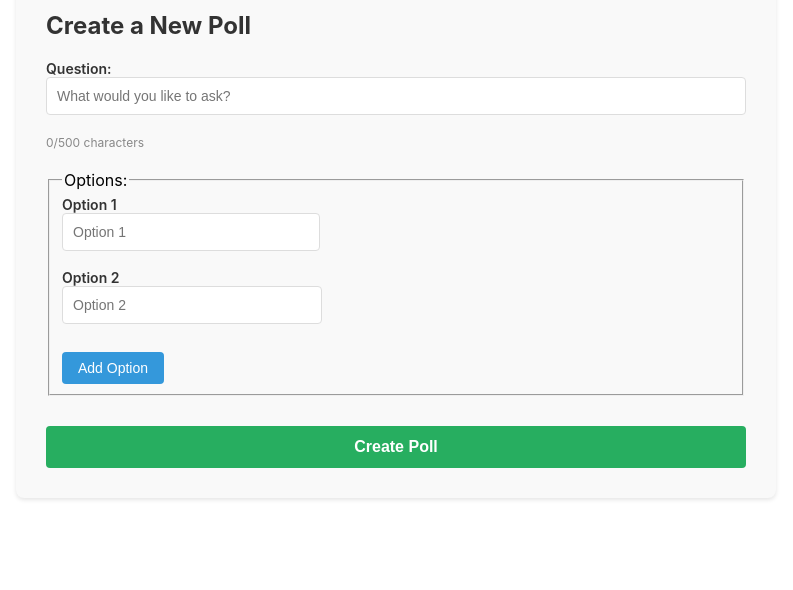
Test: HostDashboard - Edge Cases › T022: adding new option field does not affect existing field keys
Type in first field
Click the field with placeholder "Option 1". click: (191, 232)
box: x1=62 y1=212 x2=320 y2=250
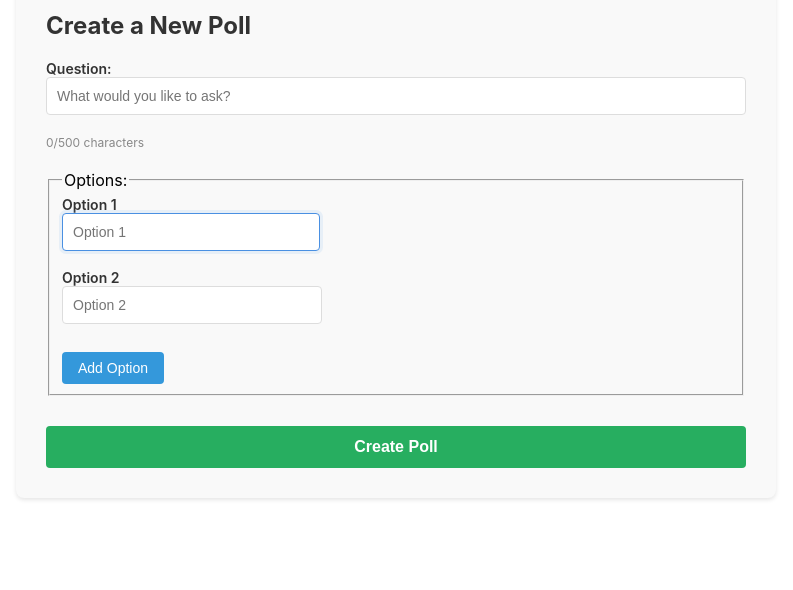
Type keys "First Option"
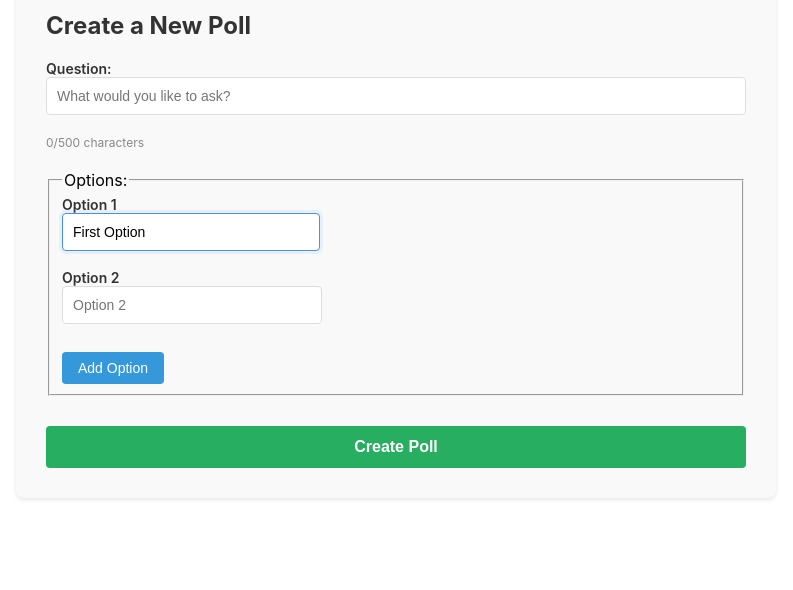
Add a new option by clicking "Add Option" button
Click the button "Add Option". click: (113, 368)
box: x1=62 y1=352 x2=164 y2=384
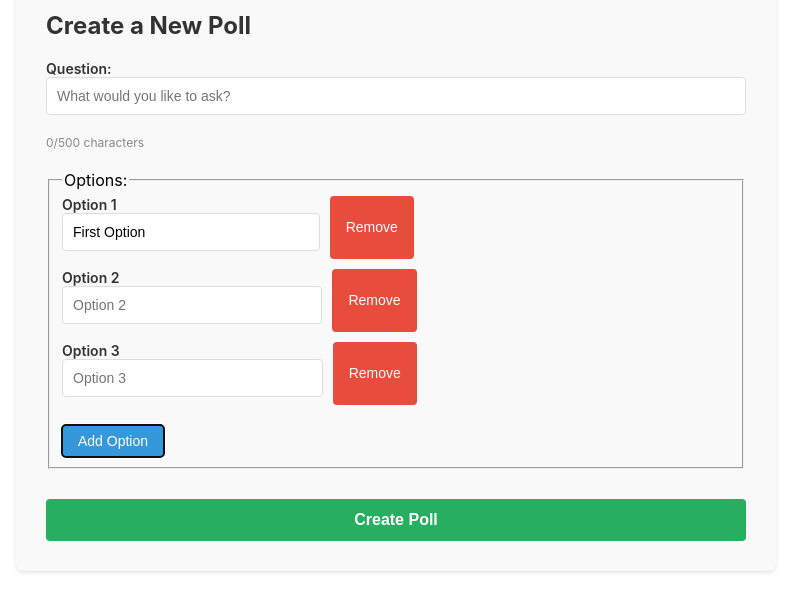
Now the field with placeholder "Option 1" holds "First Option", box x1=62 y1=212 x2=320 y2=250
Now the field with placeholder "Option 3" is shown, box x1=62 y1=358 x2=323 y2=396
